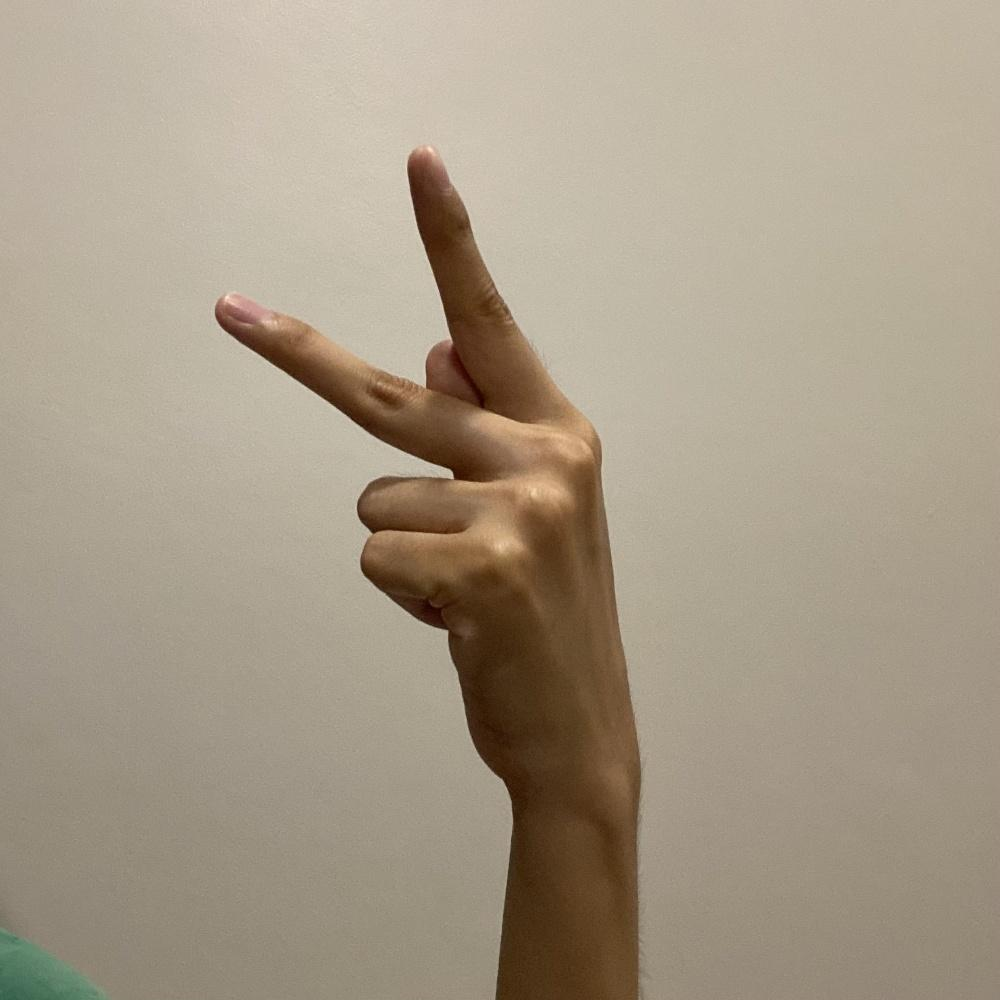k: (211, 138, 647, 803)
